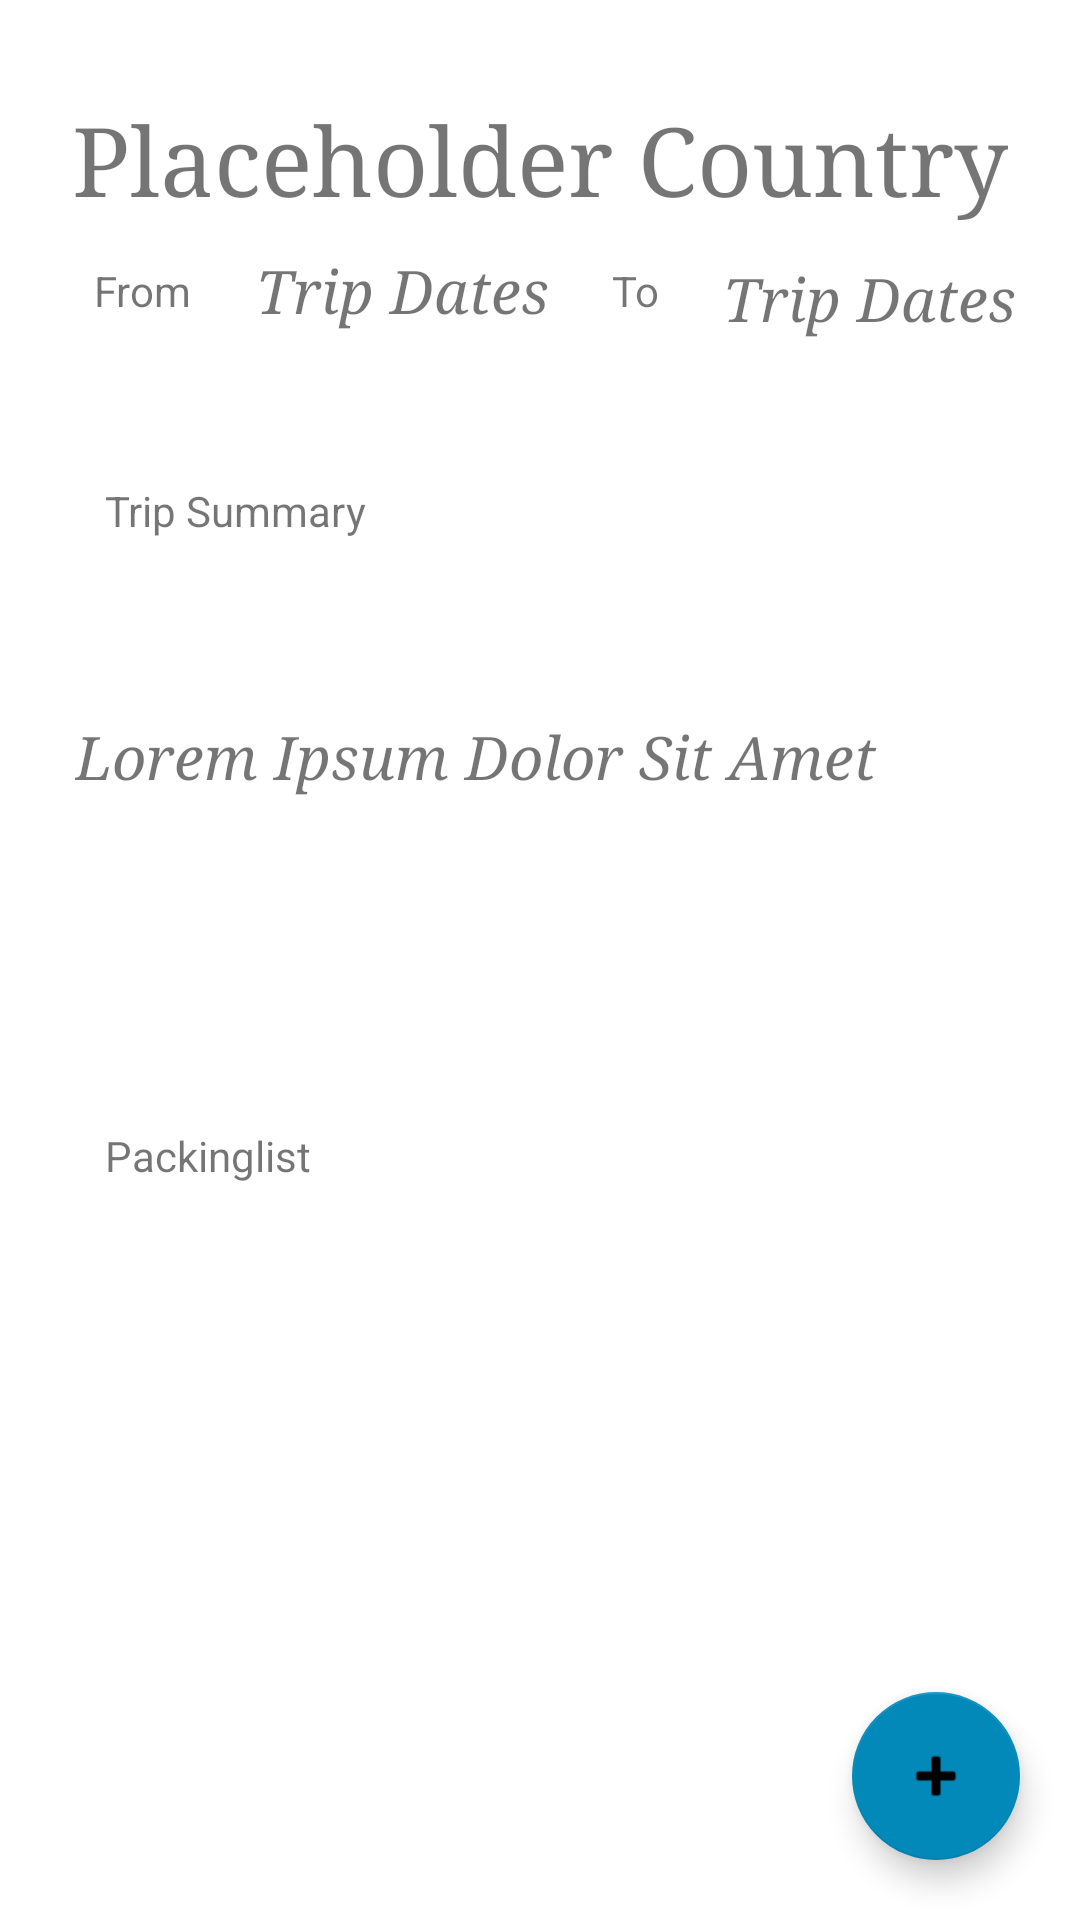

Named icons in this screenshot (1080 × 1920) and their centers, (x=x, y=y):
New Trip: (x=936, y=1776)
